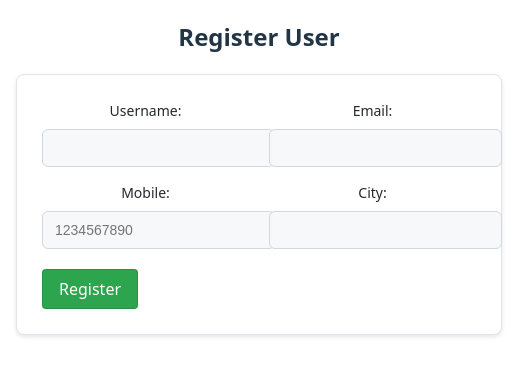
Test case: Register component › shows error and disables button for invalid email
The width and height of the screenshot is (519, 366).
Type "bademail" into the field labelled "Email:" at (386, 148), box [269,129,502,167]
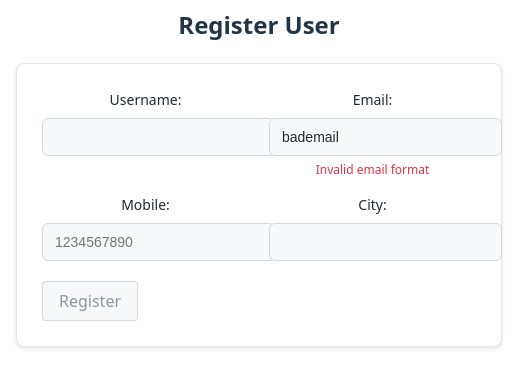
Expected: the text "Invalid email format" is shown, [316,161,429,178]
Expected: the button "Register" is disabled, [42,281,138,321]
